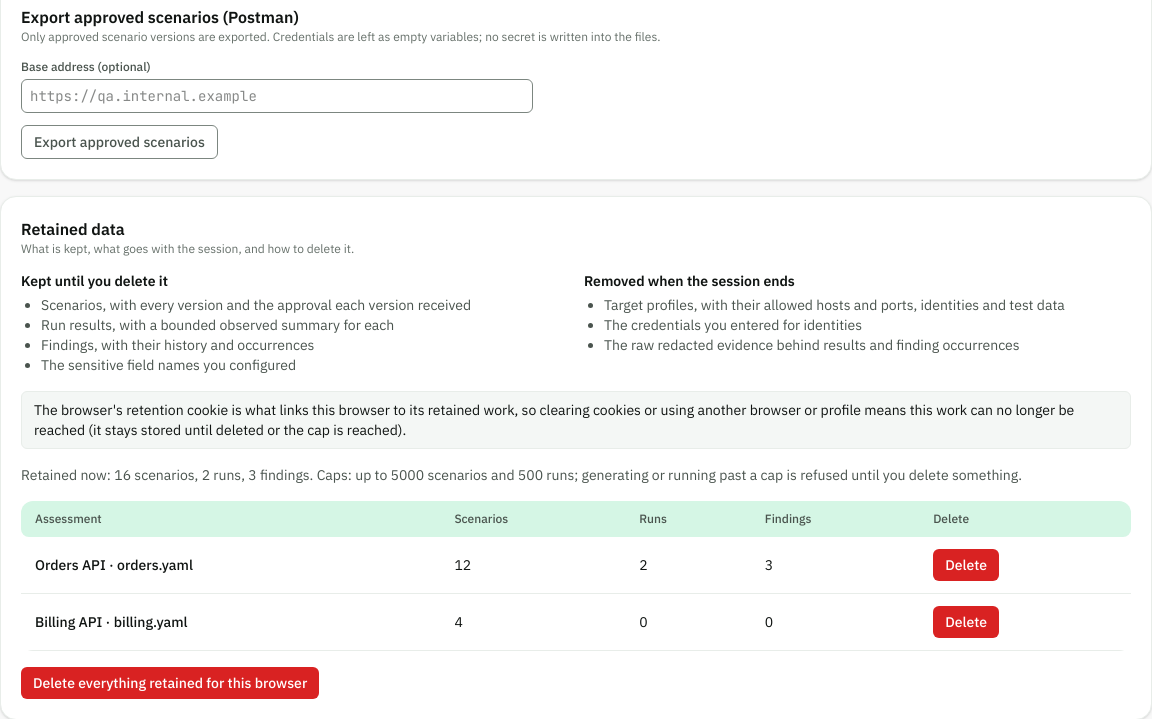
Test: ReportsArea (T128, T134, FR-061, FR-062) › reads the report again after retained data is deleted
This screenshot has width=1152, height=719.
(page scrolled)
Click the button "Delete everything retained for this browser" at (170, 683), box [21,667,319,699]
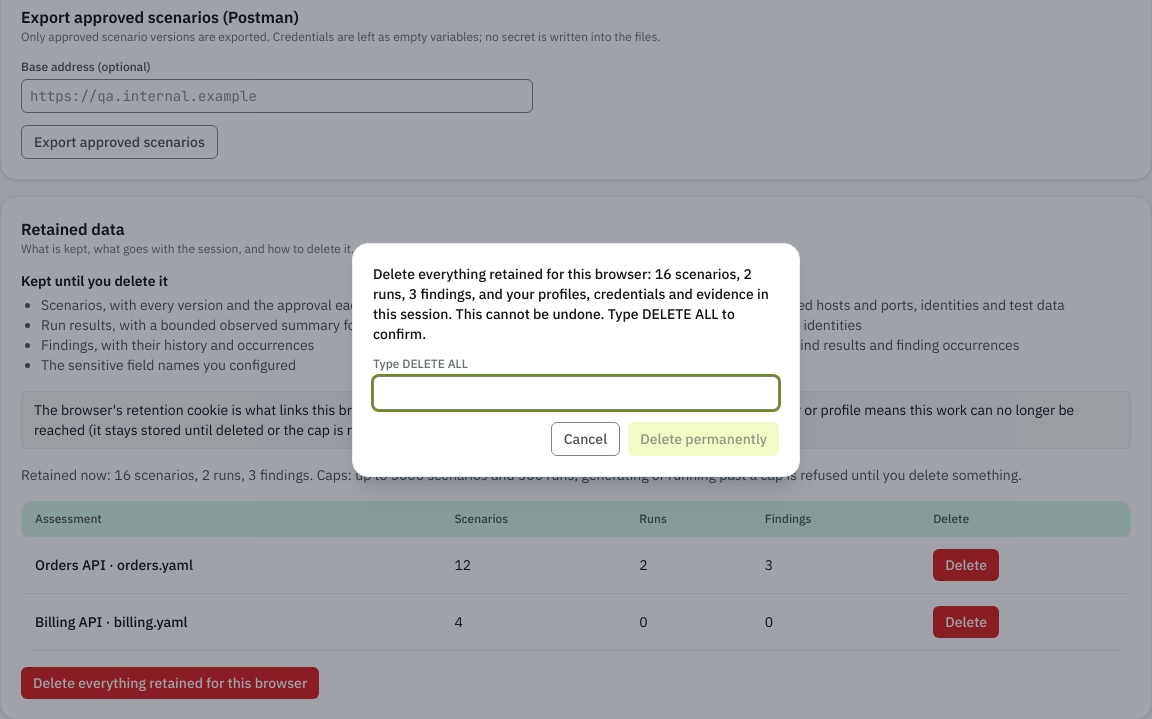
Type "DELETE ALL" into the field labelled "Type DELETE ALL" at (576, 393), box [373,376,779,410]
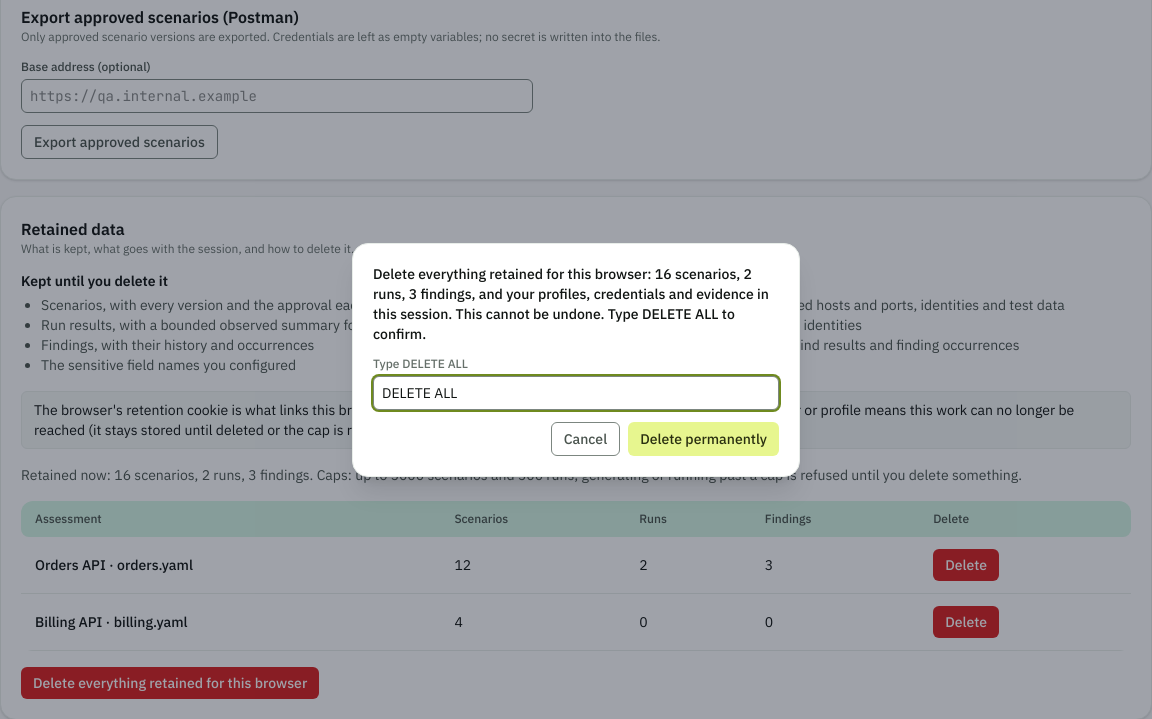
Click the button "Delete permanently" at (704, 439), box [628,422,779,456]
(page scrolled)
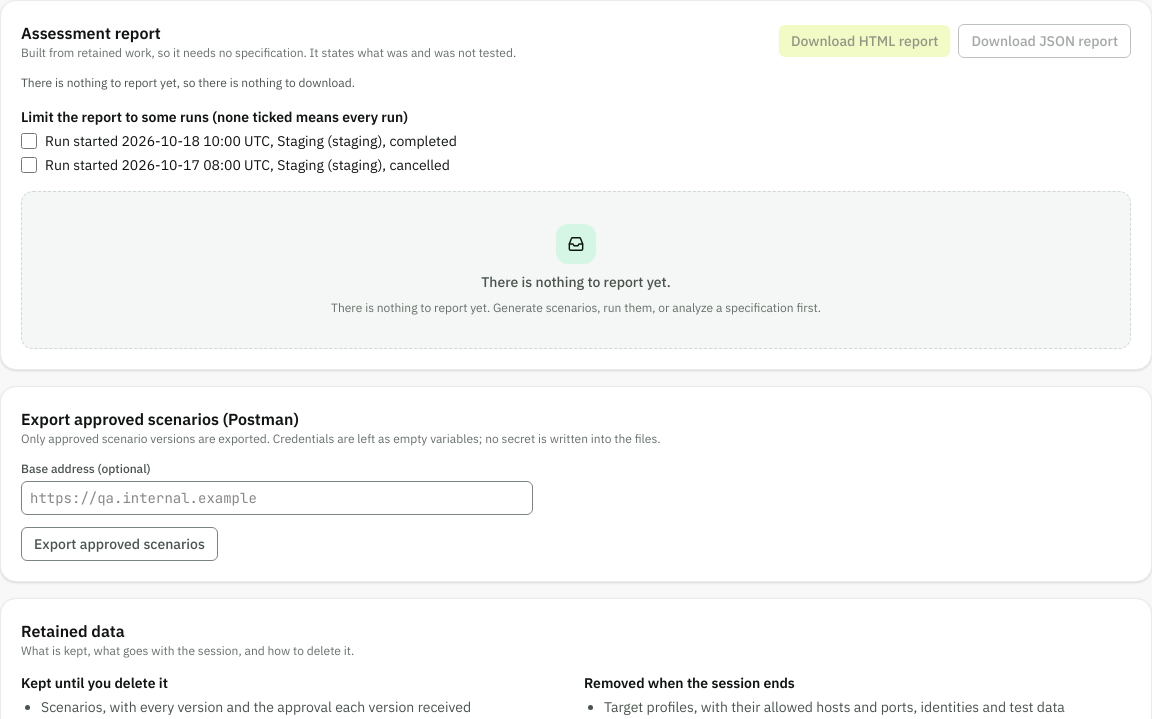
Expected: the element with test id "report-nothing" is shown, [21,191,1131,349]
